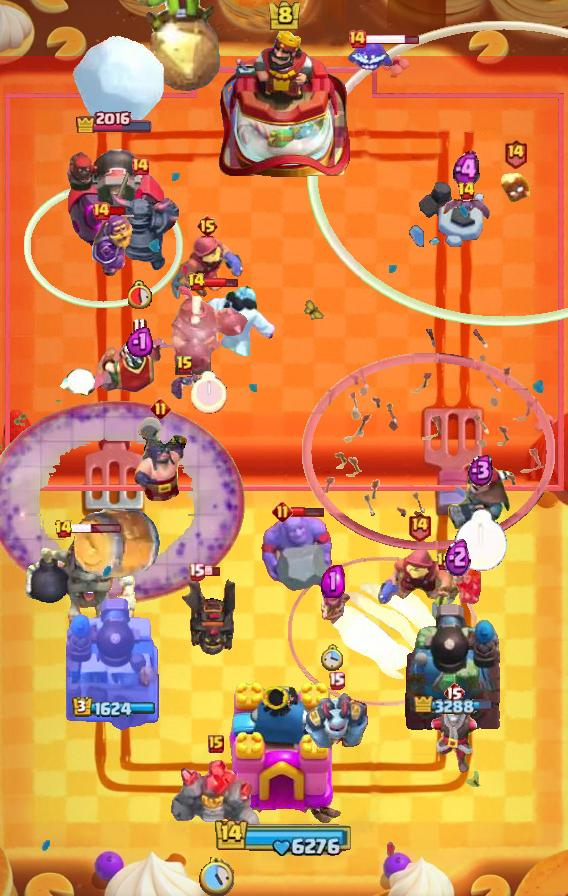archer-evolution: (177, 576, 235, 658)
archer-queen: (258, 510, 340, 598)
barbarian-barrel: (441, 198, 491, 222), (169, 370, 201, 400)
bat: (58, 366, 106, 396)
bomber: (499, 172, 531, 204)
cannon: (315, 582, 351, 630)
cannoneer-tower: (168, 756, 264, 852)
clock: (214, 817, 354, 857)
dirt: (71, 507, 163, 581)
electro-giant: (20, 530, 138, 642)
electro-spirit: (445, 536, 471, 576), (453, 151, 480, 189), (467, 453, 495, 487), (127, 325, 154, 357), (321, 566, 345, 599)
elixir: (454, 509, 508, 572), (189, 371, 226, 413), (199, 857, 234, 896), (128, 280, 153, 308), (321, 643, 345, 671)
elixir-golem-small: (304, 690, 368, 748)
emote: (365, 34, 420, 47), (70, 523, 122, 534), (203, 275, 239, 288), (291, 506, 324, 518), (108, 205, 127, 217), (202, 567, 221, 578)
fireball: (376, 547, 462, 625), (168, 230, 246, 304)
firecracker-evolution: (92, 207, 134, 277)
golemite: (101, 168, 179, 272)
hog-rider: (434, 560, 482, 606)
ice-wizard: (288, 557, 476, 707)
king-tower: (218, 27, 350, 181), (222, 680, 346, 826)
monk: (131, 416, 189, 502)
mortar: (411, 696, 497, 774)
phoenix-small: (446, 463, 516, 531)
rage: (197, 284, 275, 356)
rocket: (0, 400, 244, 604)
royal-guardian: (167, 283, 249, 375)
selected: (74, 108, 154, 133), (72, 696, 156, 718), (414, 695, 494, 716)
skeleton-barrel: (301, 328, 555, 551)
skeleton-king: (91, 329, 187, 397)
spear-goblin: (347, 36, 395, 76)
text: (408, 511, 433, 542), (504, 139, 529, 169), (196, 214, 219, 238), (443, 681, 465, 705), (149, 397, 170, 419), (272, 502, 293, 523), (347, 29, 367, 49), (130, 156, 150, 176), (91, 201, 111, 221), (54, 519, 74, 539), (457, 181, 476, 201), (186, 272, 205, 292), (176, 355, 194, 375), (436, 552, 454, 572), (327, 671, 344, 690), (187, 563, 204, 581), (208, 735, 224, 753), (133, 316, 147, 335)
tower-bar: (66, 595, 162, 731), (403, 601, 503, 731), (62, 138, 166, 256)
wall-breaker: (72, 34, 166, 126)
x-bow: (133, 0, 223, 95)
